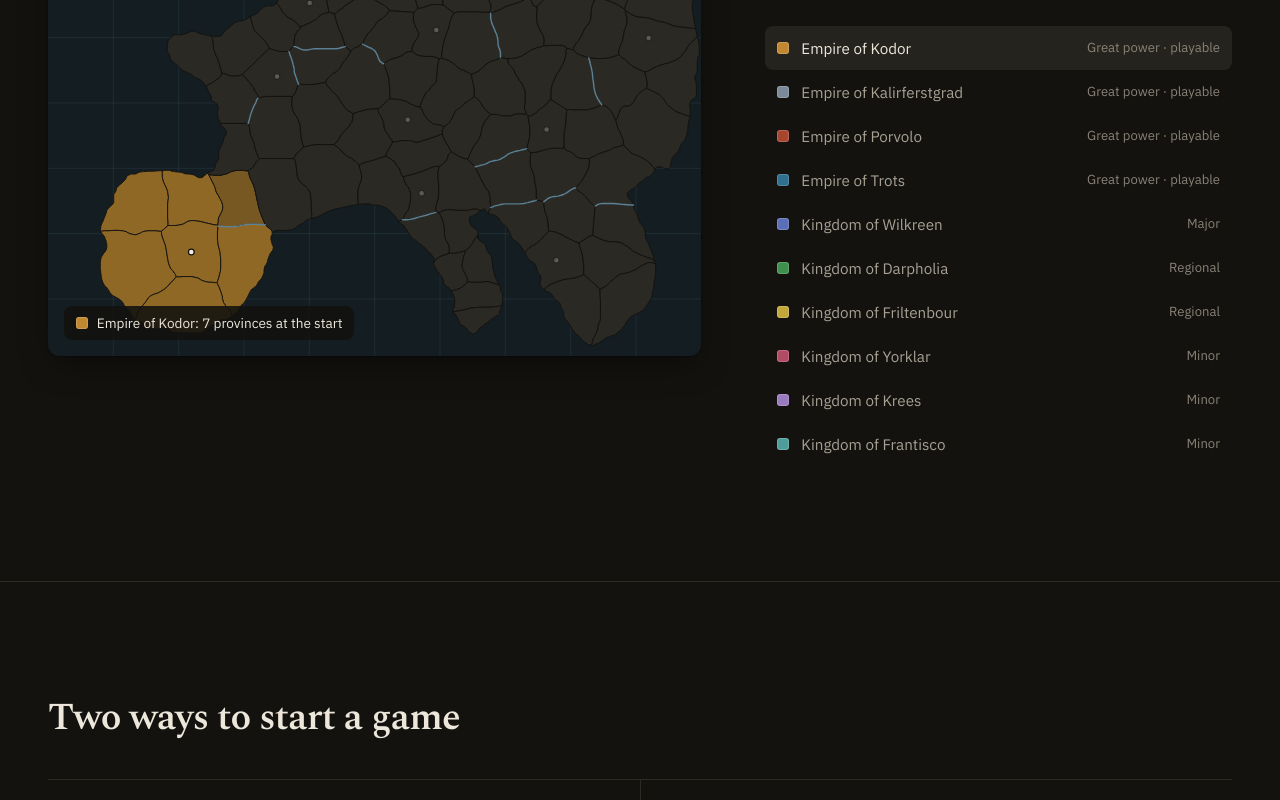
Scenario: LandingPage › lists the ten nations of the Grand Campaign and highlights the chosen one
(page scrolled)
Check: the text "Great power · playable" is shown 4 times, box [1087,38,1220,58]; [1087,82,1220,102]; [1087,126,1220,146]; [1087,170,1220,190]
Click the button "Kingdom of Krees Minor".
click(861, 400)  # box [765,378,1232,422]
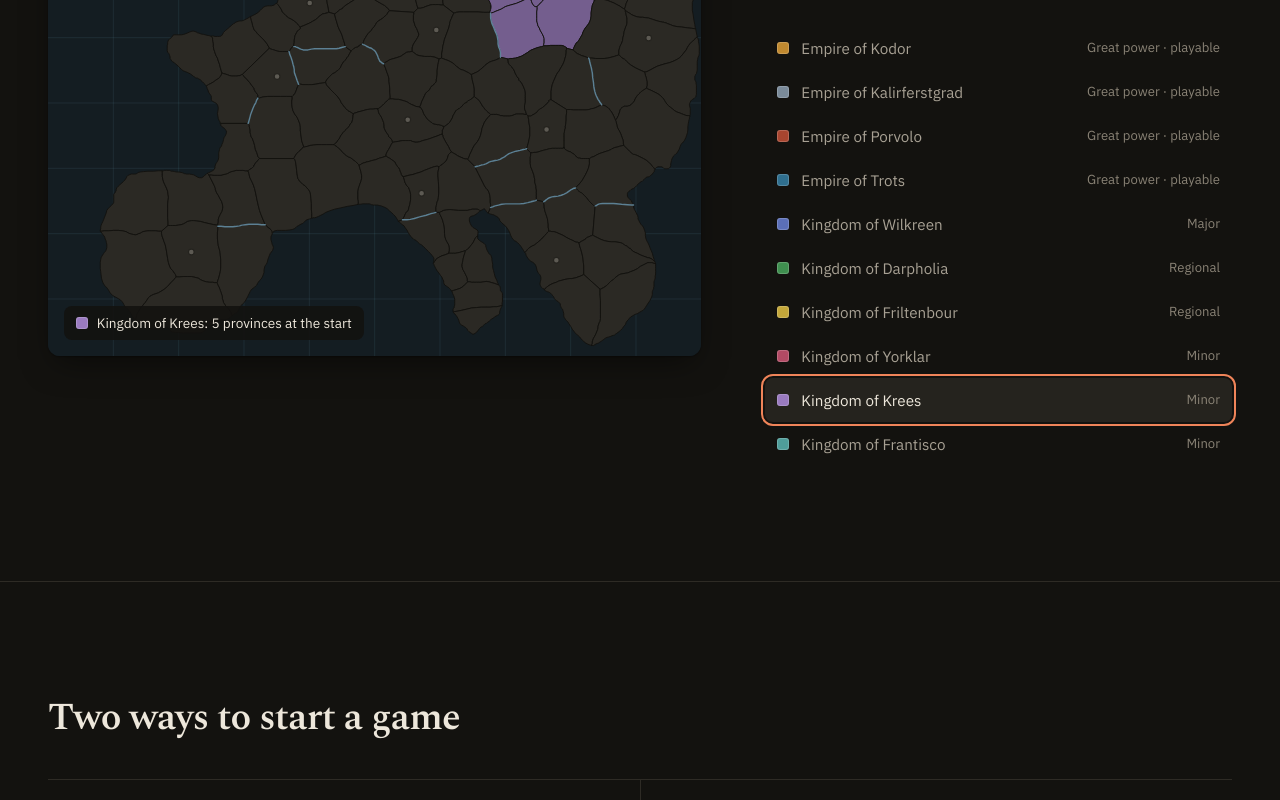
Check: the text "Kingdom of Krees: 5 provinces at the start" is shown, box [64,306,364,340]
